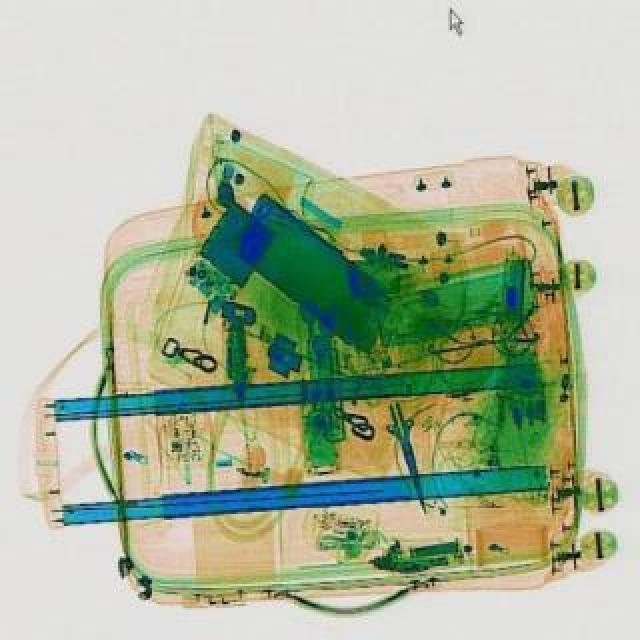knife: (378, 400, 440, 518)
